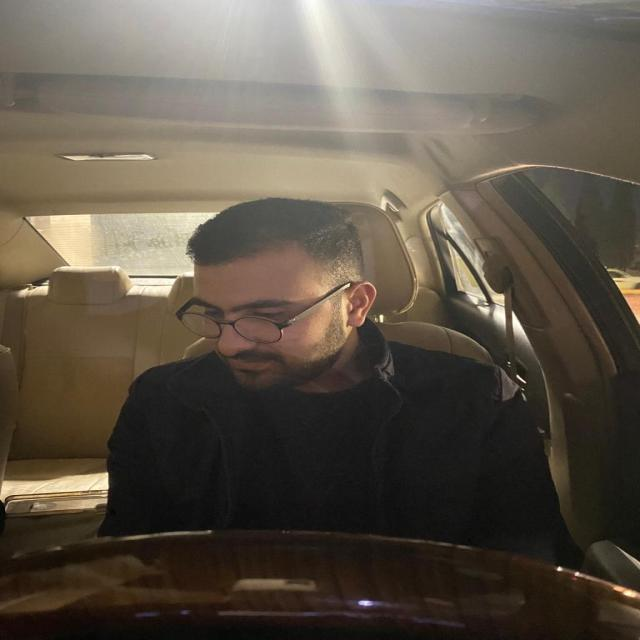drowsy: (174, 219, 378, 393)
